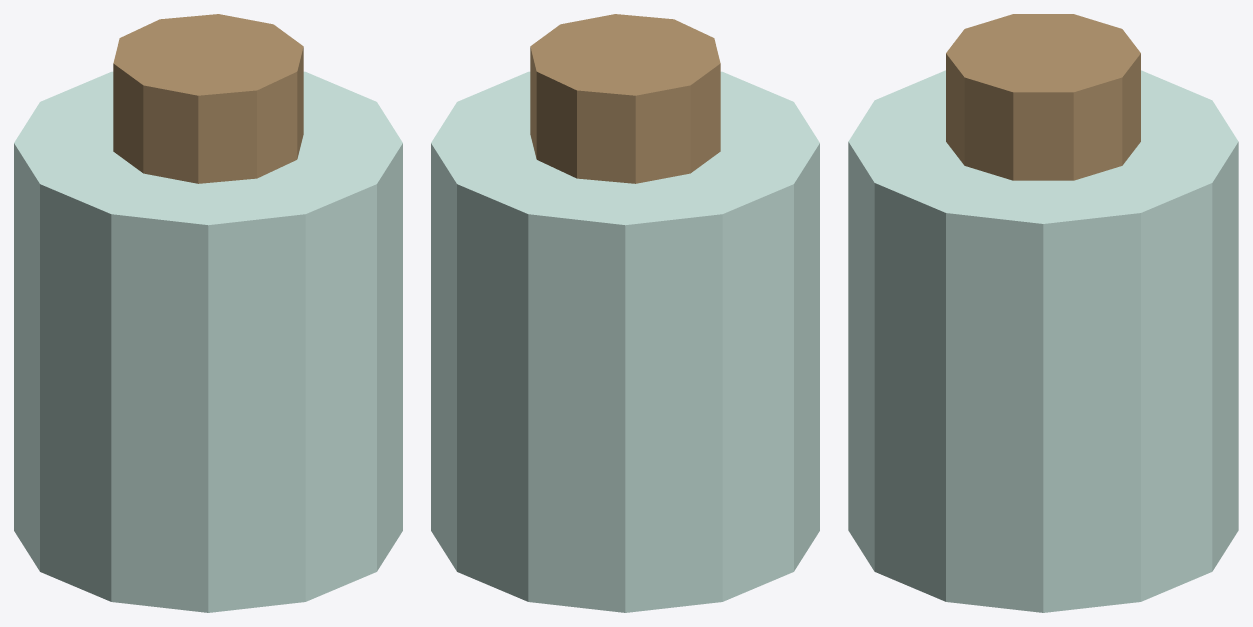
Rendered from SM_Item_HealthSmall_01.glb.
The picture shows the model from 3 angles, left to right: view 1: azimuth 30°, elevation 25°; view 2: azimuth 150°, elevation 25°; view 3: azimuth 270°, elevation 25°; orthographic projection.
Parts seen in each view (by area): view 1: SM_HealthSmall_Bottle, SM_HealthSmall_Cork; view 2: SM_HealthSmall_Bottle, SM_HealthSmall_Cork; view 3: SM_HealthSmall_Bottle, SM_HealthSmall_Cork.
Part boxes in pixels (box(x1,y1,x2,y2)): SM_HealthSmall_Bottle: box(14, 71, 402, 612); SM_HealthSmall_Cork: box(113, 14, 303, 183); SM_HealthSmall_Bottle: box(431, 71, 819, 612); SM_HealthSmall_Cork: box(530, 14, 720, 183); SM_HealthSmall_Bottle: box(848, 70, 1238, 612); SM_HealthSmall_Cork: box(946, 14, 1140, 180).
Bounding box in the file's own units: 0.2 × 0.27 × 0.2.
